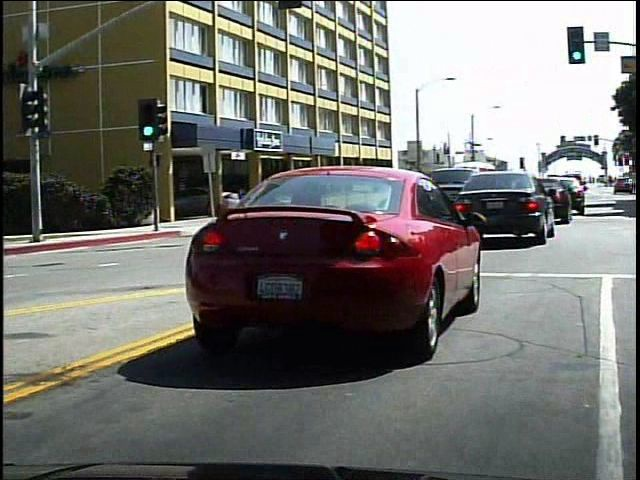person: (272, 181, 290, 217)
